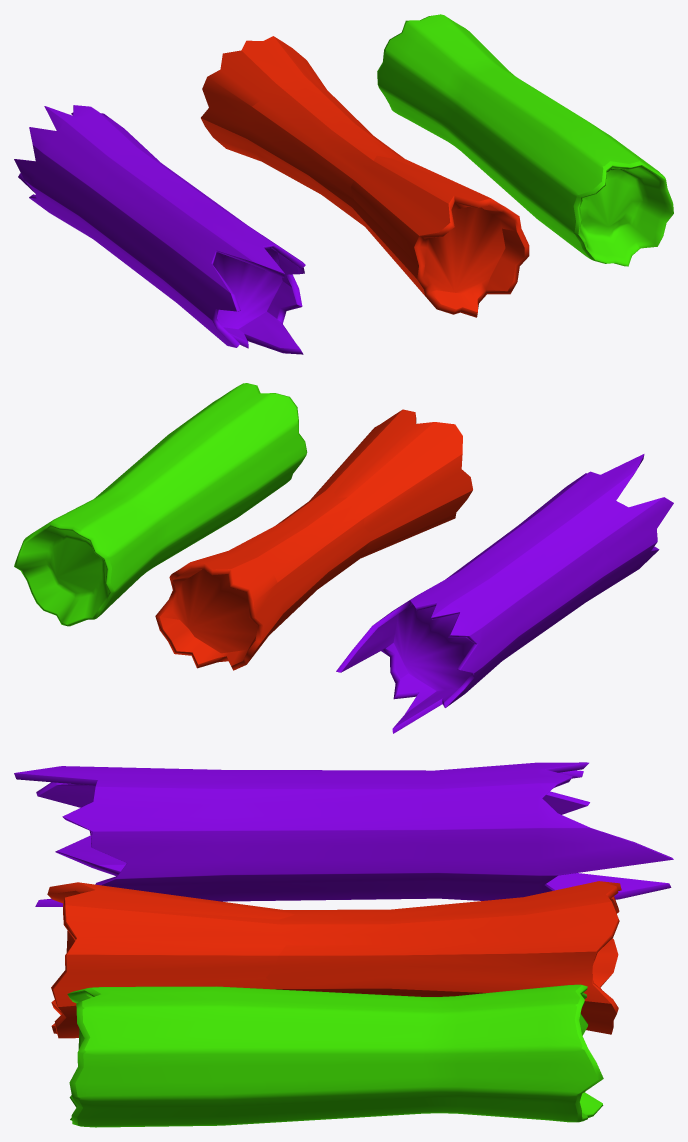
File: LogsExport.fbx
The picture shows the model from 3 angles, top to bottom: view 1: azimuth 30°, elevation 25°; view 2: azimuth 150°, elevation 25°; view 3: azimuth 270°, elevation 25°; orthographic projection. The views are drawn at different scales.
Parts seen in each view (by area): view 1: Cylinder.005, Cylinder.006, Cylinder; view 2: Cylinder, Cylinder.005, Cylinder.006; view 3: Cylinder, Cylinder.006, Cylinder.005.
Boxes of the visible parts, x1,y1,x2,y2 form: Cylinder.005: [201, 36, 529, 317]; Cylinder.006: [377, 14, 673, 266]; Cylinder: [14, 105, 305, 354]; Cylinder: [336, 454, 673, 733]; Cylinder.005: [155, 409, 472, 670]; Cylinder.006: [14, 383, 307, 626]; Cylinder: [14, 762, 673, 906]; Cylinder.006: [67, 984, 603, 1127]; Cylinder.005: [47, 881, 621, 1038].
Size of the model in its own units: 1789 by 428 by 1782.
